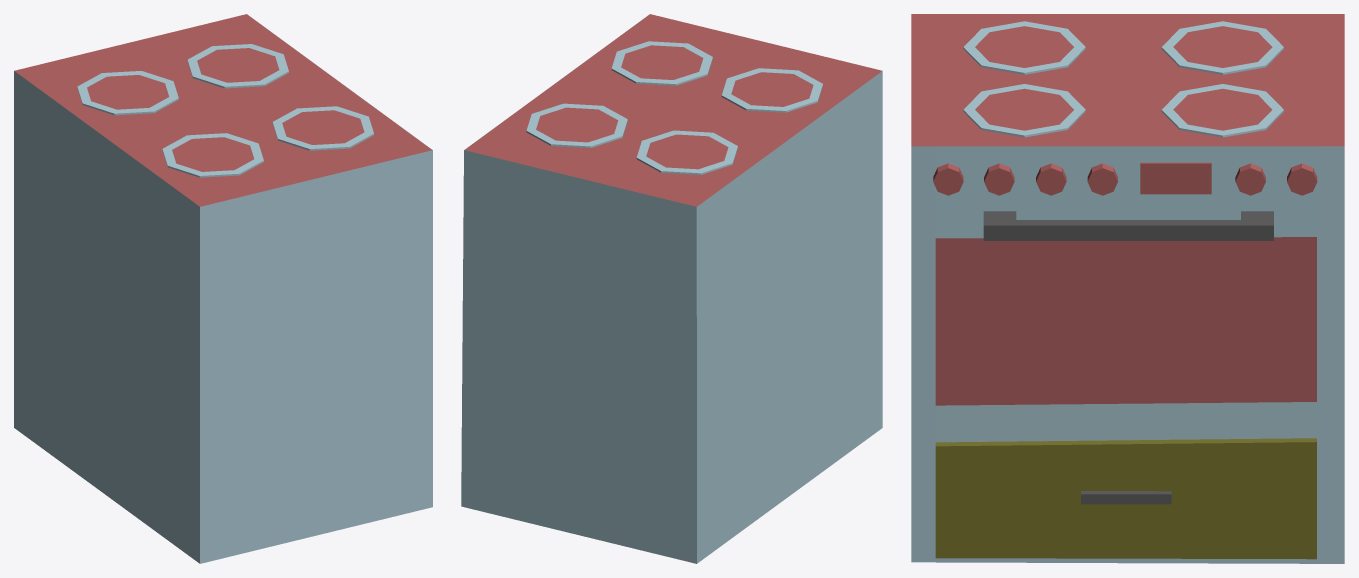
The model's file is Kitchen_Stove.fbx.
3 renders of one model, left to right at view 1: azimuth 30°, elevation 25°; view 2: azimuth 150°, elevation 25°; view 3: azimuth 270°, elevation 25°, orthographic. The views are drawn at different scales.
Visible parts, largest first — view 1: Kitchen_Stove; view 2: Kitchen_Stove; view 3: Kitchen_Stove.
Part boxes in pixels (<box>): Kitchen_Stove: <box>14,14,432,563</box>; Kitchen_Stove: <box>461,14,882,563</box>; Kitchen_Stove: <box>911,14,1344,563</box>.
Bounding box in the file's own units: 97.98 × 130 × 122.
